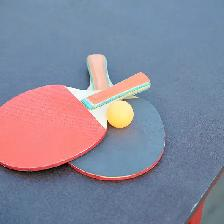YellowBall: (105, 100, 134, 128)
